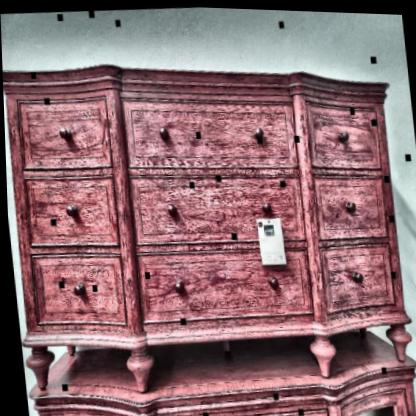Sideboard: (2, 66, 411, 391)
